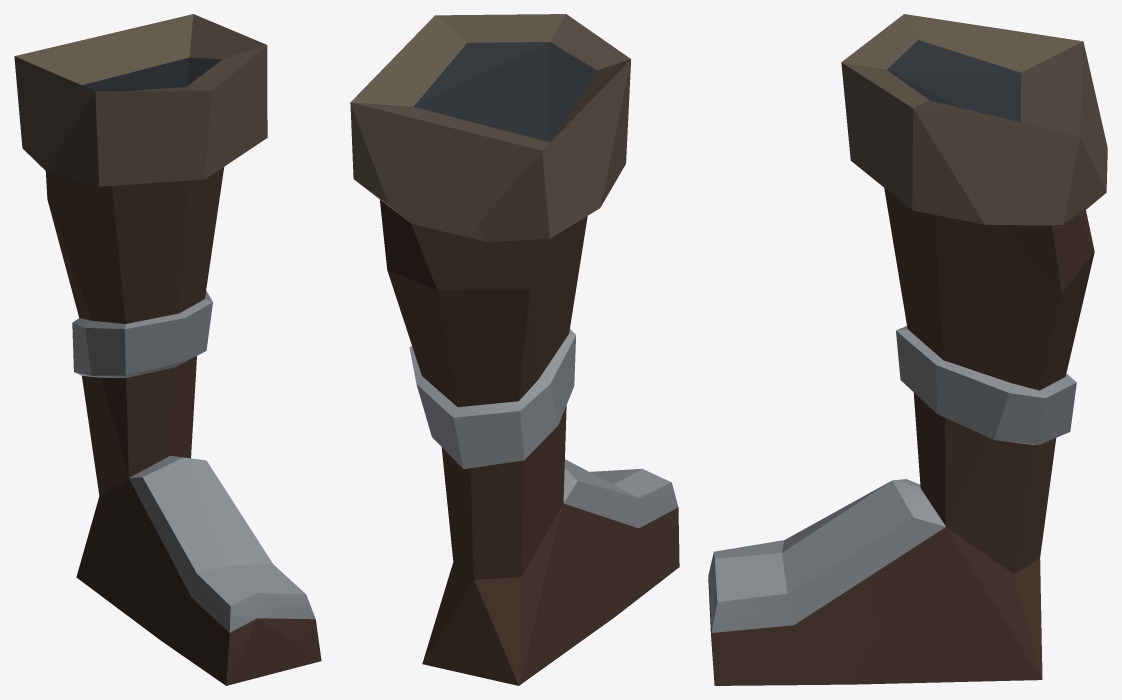
The model's file is Chr_LegLeft_Female_18_Static.fbx.
3 renders of one model, left to right at view 1: azimuth 30°, elevation 25°; view 2: azimuth 150°, elevation 25°; view 3: azimuth 270°, elevation 25°, orthographic. The views are drawn at different scales.
Parts seen in each view (by area): view 1: Chr_LegLeft_Female_18_Static; view 2: Chr_LegLeft_Female_18_Static; view 3: Chr_LegLeft_Female_18_Static.
Part boxes in pixels (x1,y1,x2,y2): Chr_LegLeft_Female_18_Static: [14, 14, 321, 685]; Chr_LegLeft_Female_18_Static: [350, 14, 679, 685]; Chr_LegLeft_Female_18_Static: [708, 14, 1107, 685].
Bounding box in the file's own units: 0.1606 × 0.4099 × 0.2487.
